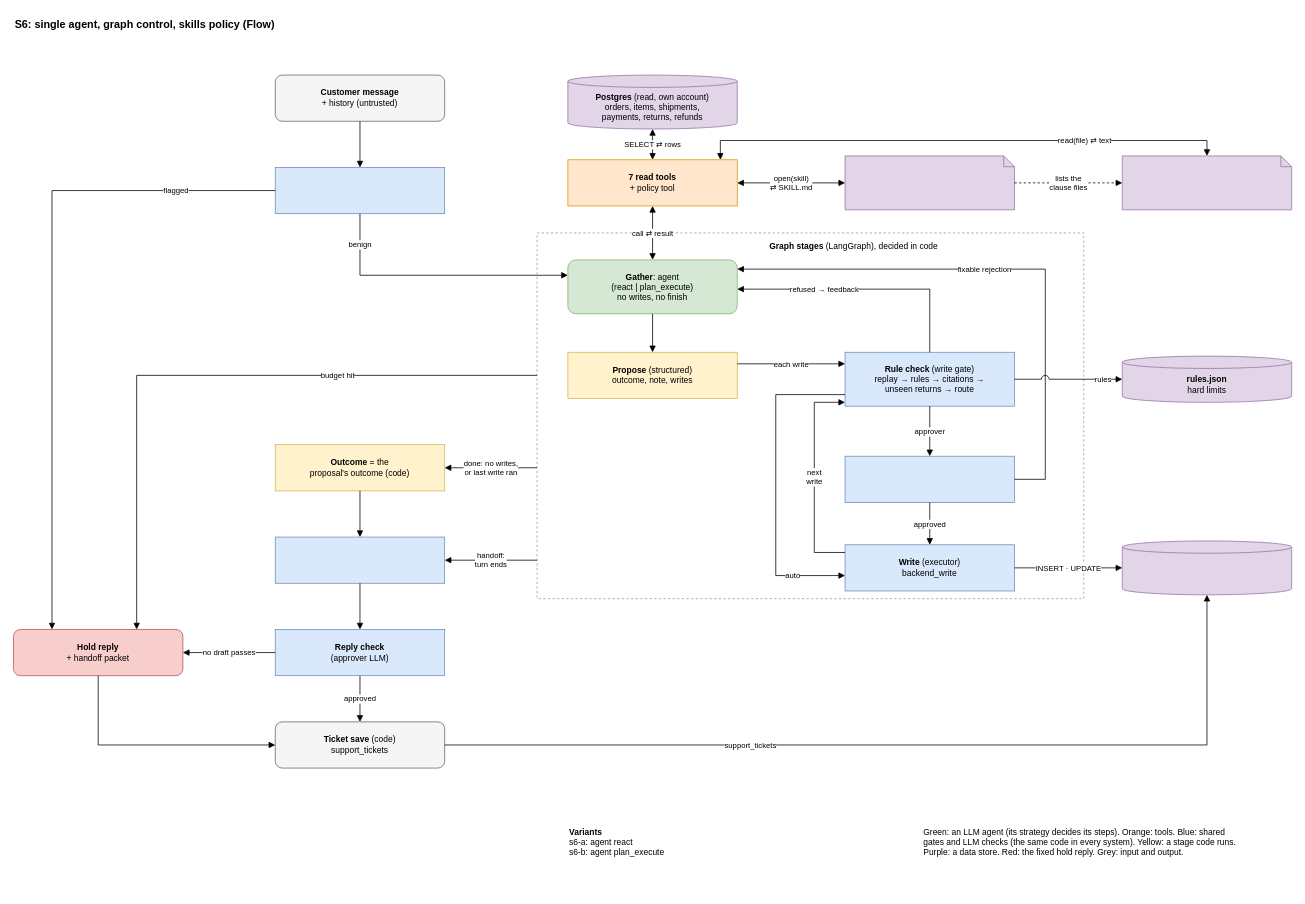
This 1305x904 diagram has some shape labels left out. Here are the shapes that lost their labels. From the top down, the centre of each, then its label:
[360,190]: Guard (LLM) screens the new message
[929,182]: SKILL.md per skill folder orders-and-shipping, returns-and-refunds
[1207,182]: Clause files (.md) eligibility.md, refunds.md, tracking.md, …
[929,478]: Review (approver LLM) approver route only
[360,559]: Reply writer (LLM) + wording checks (code)
[1207,567]: Postgres (write) returns, refunds, cancels, backend_writes, support_tickets
